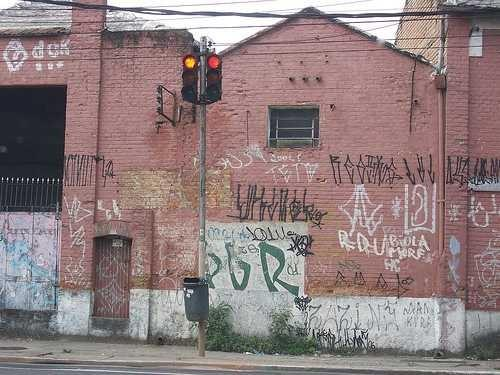red: (205, 52, 225, 100), (181, 54, 199, 105)
